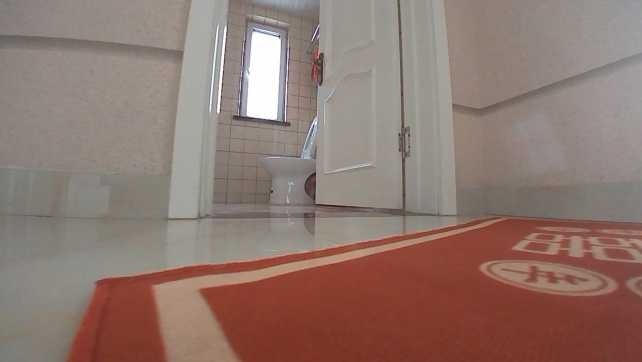blanket: (67, 210, 640, 361)
door_anno: (309, 0, 457, 215)
toilet: (255, 116, 318, 206)
